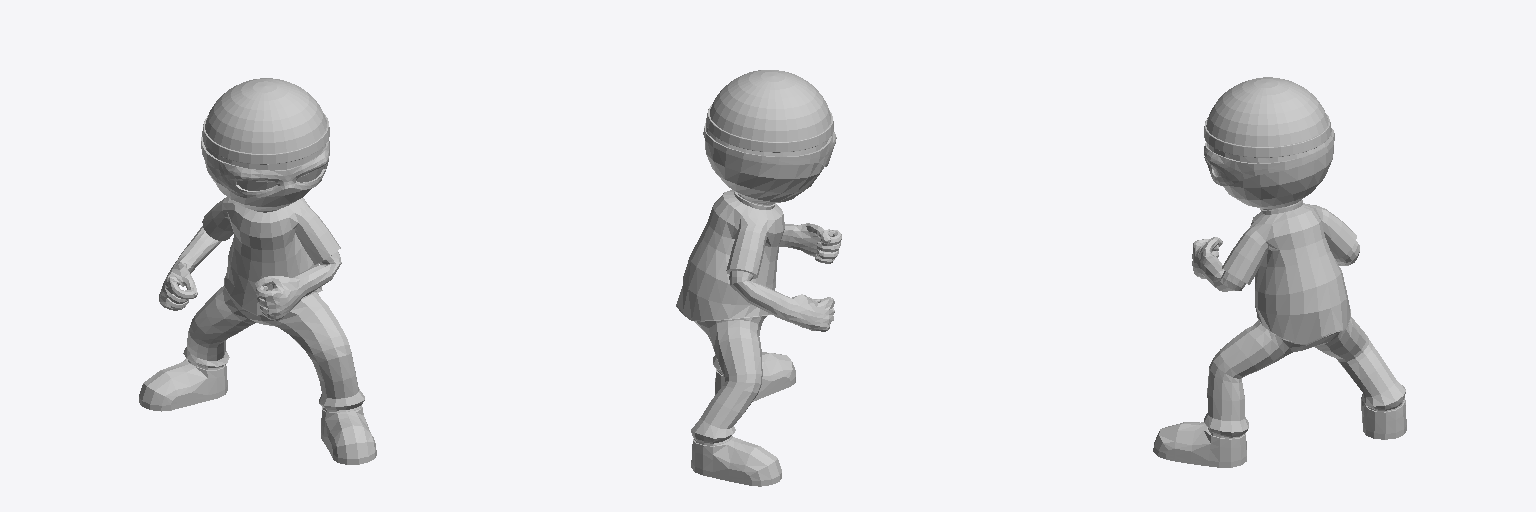
Rendered from Enemy  Cartoon Stylized Animated Character .obj.
3 renders of one model, left to right at view 1: azimuth 30°, elevation 25°; view 2: azimuth 150°, elevation 25°; view 3: azimuth 270°, elevation 25°, orthographic.
Parts seen in each view (by area): view 1: 5-_PhongSpecularColor001_Mesh, 6-_PhongSpecularColor001_Mesh.001; view 2: 5-_PhongSpecularColor001_Mesh, 6-_PhongSpecularColor001_Mesh.001; view 3: 5-_PhongSpecularColor001_Mesh, 6-_PhongSpecularColor001_Mesh.001.
Part boxes in pixels (x1,y1,x2,y2): 5-_PhongSpecularColor001_Mesh: (159,141,364,411); 6-_PhongSpecularColor001_Mesh.001: (139,78,376,464); 5-_PhongSpecularColor001_Mesh: (676,125,841,445); 6-_PhongSpecularColor001_Mesh.001: (691,70,836,486); 5-_PhongSpecularColor001_Mesh: (1192,132,1405,438); 6-_PhongSpecularColor001_Mesh.001: (1153,77,1406,467).
Bounding box in the file's own units: 0.1487 × 0.3152 × 0.2077.